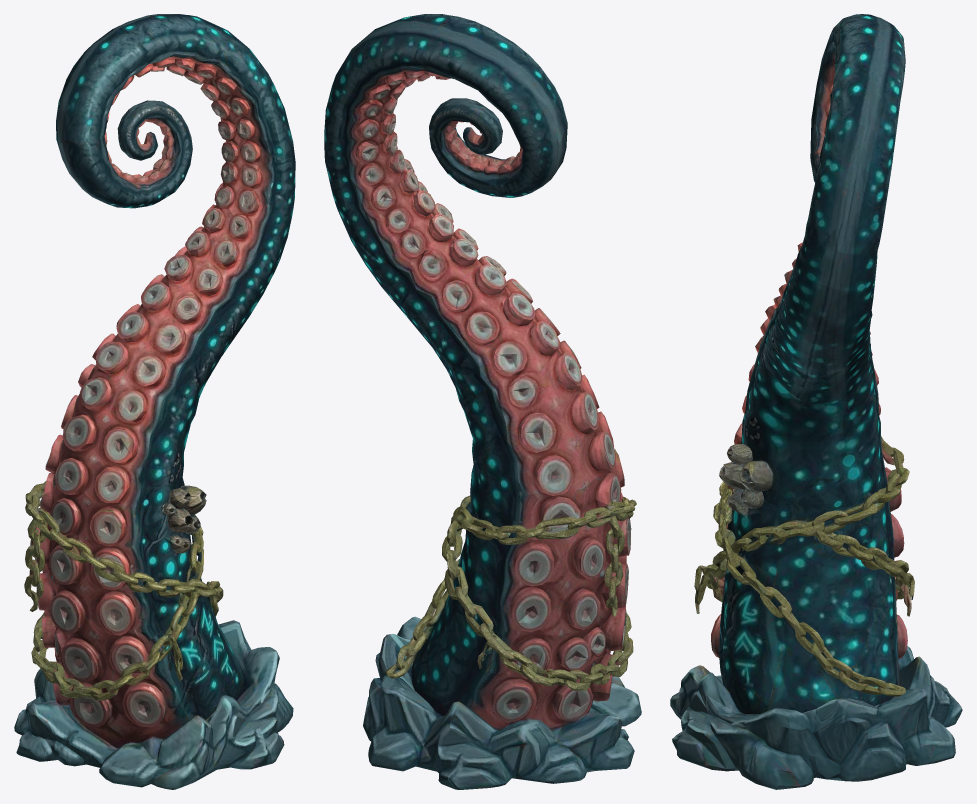
Rendered from model.opt.glb.
3 views of the same model, side by side, from view 1: azimuth 30°, elevation 25°; view 2: azimuth 150°, elevation 25°; view 3: azimuth 270°, elevation 25° (orthographic). The views are drawn at different scales.
Parts seen in each view (by area): view 1: Mesh_0; view 2: Mesh_0; view 3: Mesh_0.
Part boxes in pixels (<box>): Mesh_0: <box>14,14,295,789</box>; Mesh_0: <box>324,14,641,789</box>; Mesh_0: <box>670,14,962,789</box>.
Bounding box in the file's own units: 0.808 × 1.9 × 0.7026.
Materials: 1 (1 with a texture image).
